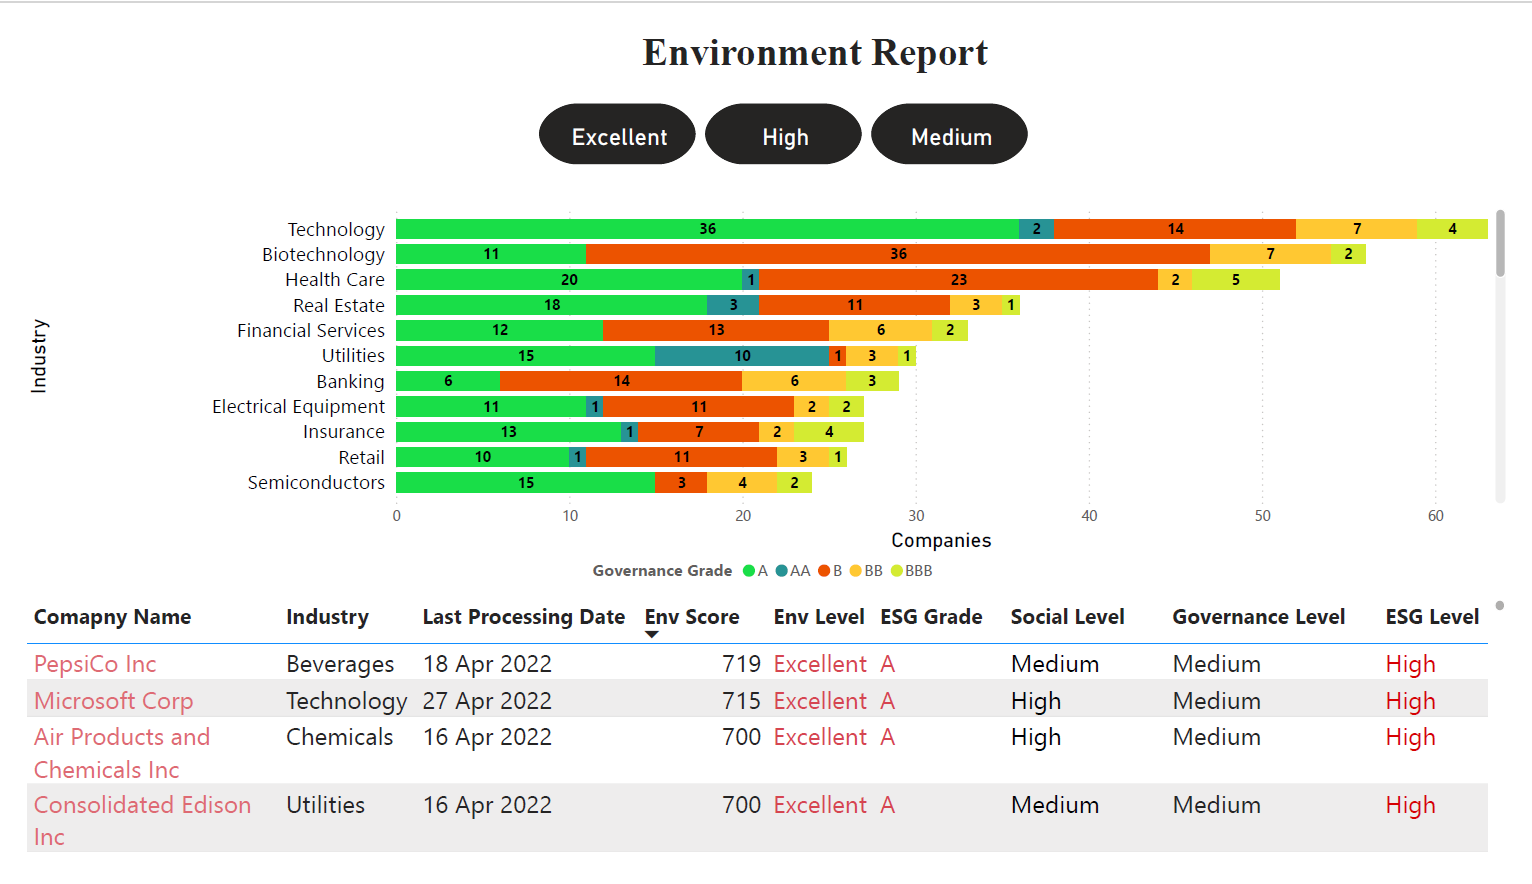

What the dashboard file says about the page in this screenshot:
{"tool":"powerbi","page":{"name":"Environment Report","canvas":[1280,720],"ordinal":2},"visuals":[{"type":"barChart","fields":{"Category":["data.industry"],"Y":["CountNonNull(data.name)"],"Series":["data.Env Grade"]},"box":[25,151.7,1230,330],"z":0},{"type":"tableEx","title":"List of top Social Companies","fields":{"Values":["data.name","data.industry","data.Last Processing Date","data.Env Score","data.Env Level","data.ESG Grade","data.Social Level","data.Governance Level","data.ESG Level"]},"box":[25,481.7,1230,223.3],"z":1000},{"type":"textbox","box":[423.3,11.7,515,61.7],"z":2000},{"type":"advancedSlicerVisual","fields":{"Values":["data.Env Level"]},"box":[448.3,73.3,551.7,60],"z":3000}]}

Visuals, with their boxes in screenshot pixels (x1, y1, x2, y2), scaled from the page's 1280x720 canvas onto the 1532x884 screenshot:
barChart - data.industry x CountNonNull(data.name): <region>30, 186, 1502, 591</region>
"List of top Social Companies" tableEx: <region>30, 591, 1502, 866</region>
textbox: <region>507, 14, 1123, 90</region>
advancedSlicerVisual - data.Env Level: <region>537, 90, 1197, 164</region>
